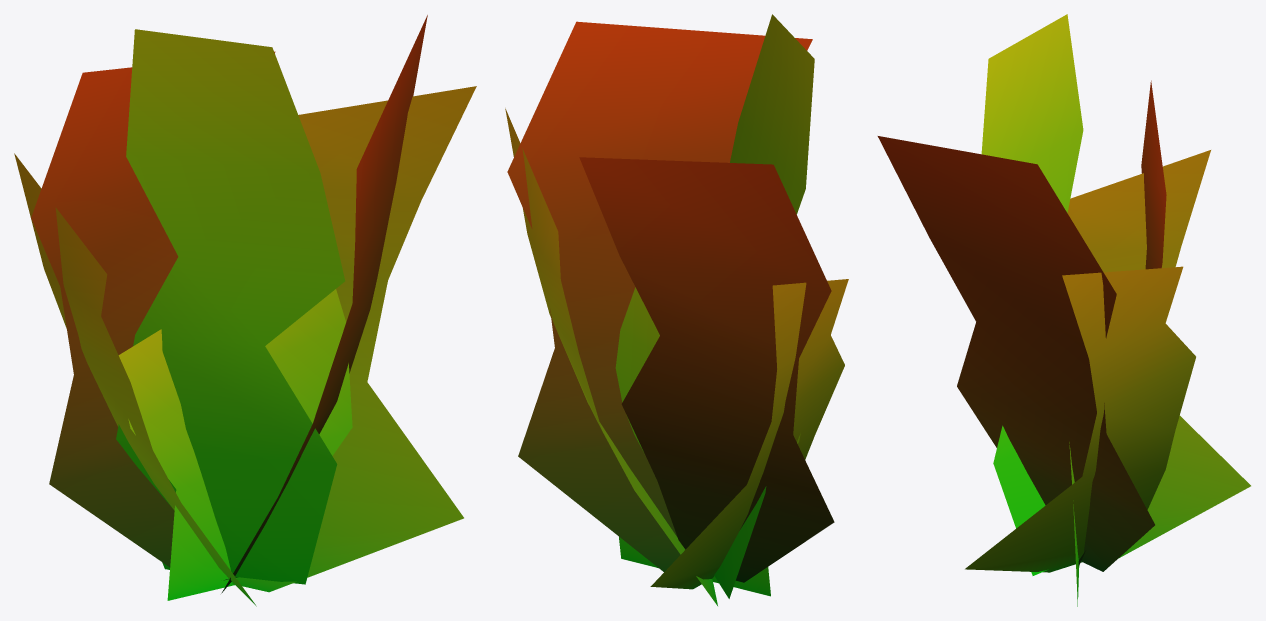
Rendered from Var8Hi56.fbx.
3 views of the same model, side by side, from view 1: azimuth 30°, elevation 25°; view 2: azimuth 150°, elevation 25°; view 3: azimuth 270°, elevation 25° (orthographic). The views are drawn at different scales.
Parts seen in each view (by area): view 1: bend1; view 2: bend1; view 3: bend1.
Part boxes in pixels (x1,y1,x2,y2): bend1: (14,15,476,606); bend1: (505,14,848,605); bend1: (877,14,1250,606).
Size of the model in its own units: 1.26 by 1.77 by 1.18.
